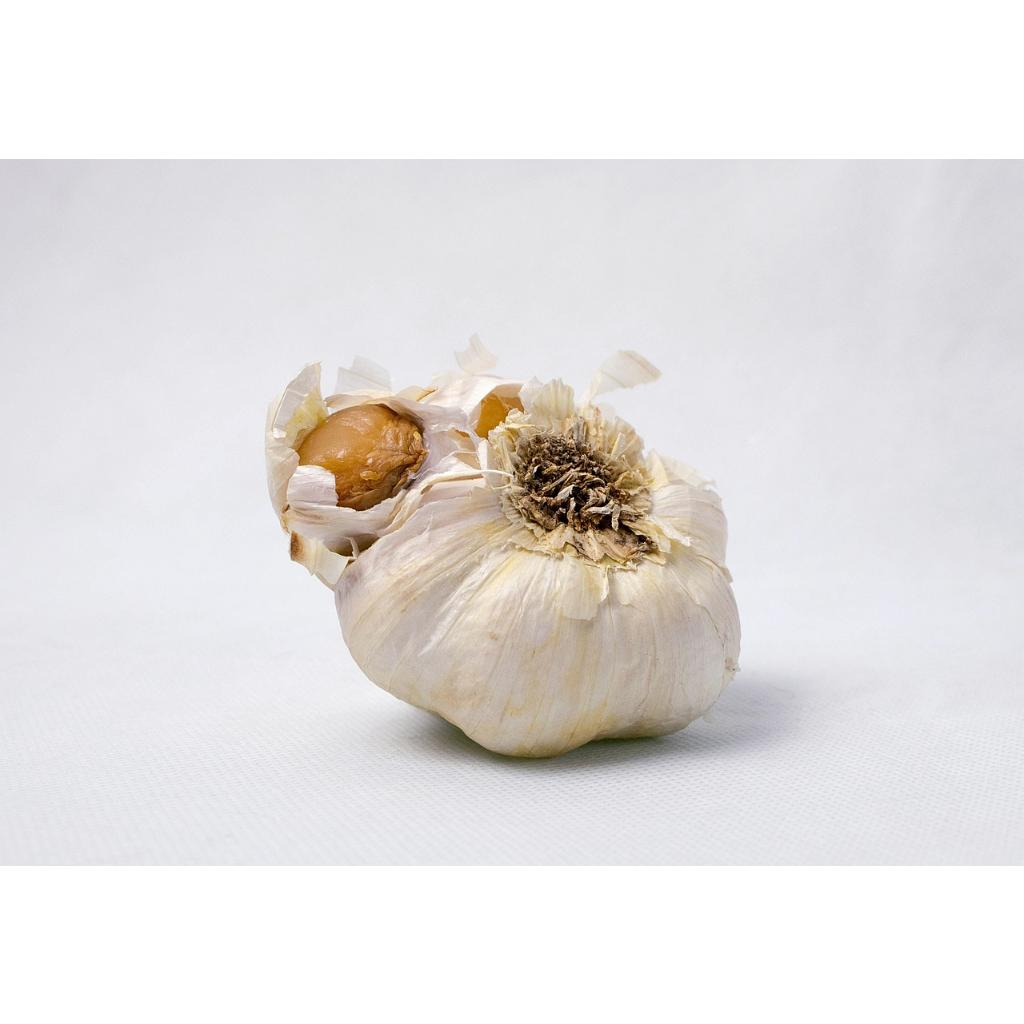garlic: (263, 386, 739, 755)
